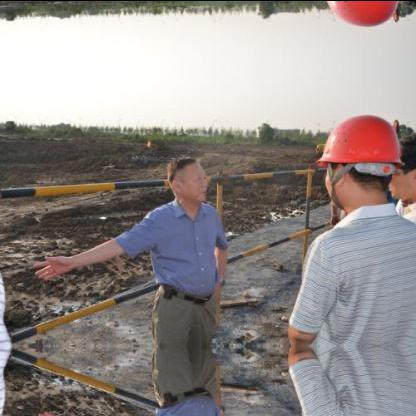Helmet: (308, 108, 402, 212), (307, 0, 403, 31)
No Helmet: (165, 152, 209, 204), (388, 121, 414, 201), (388, 0, 414, 18)
